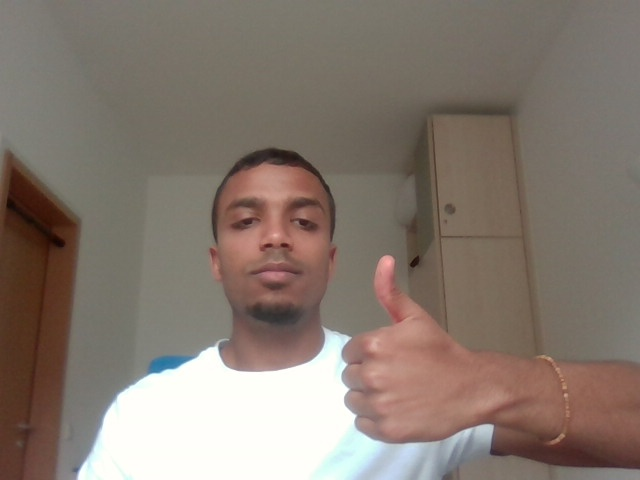yes: (343, 251, 506, 452)
